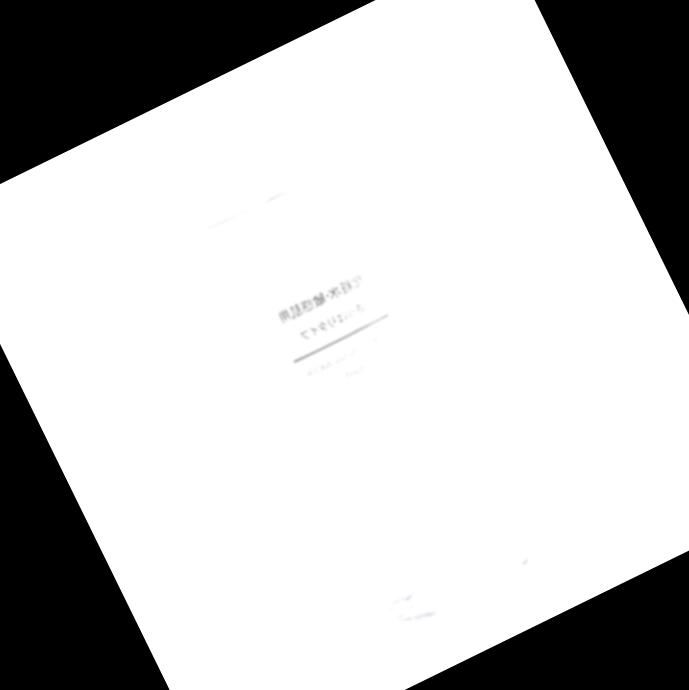cosmetic: (165, 92, 542, 631)
